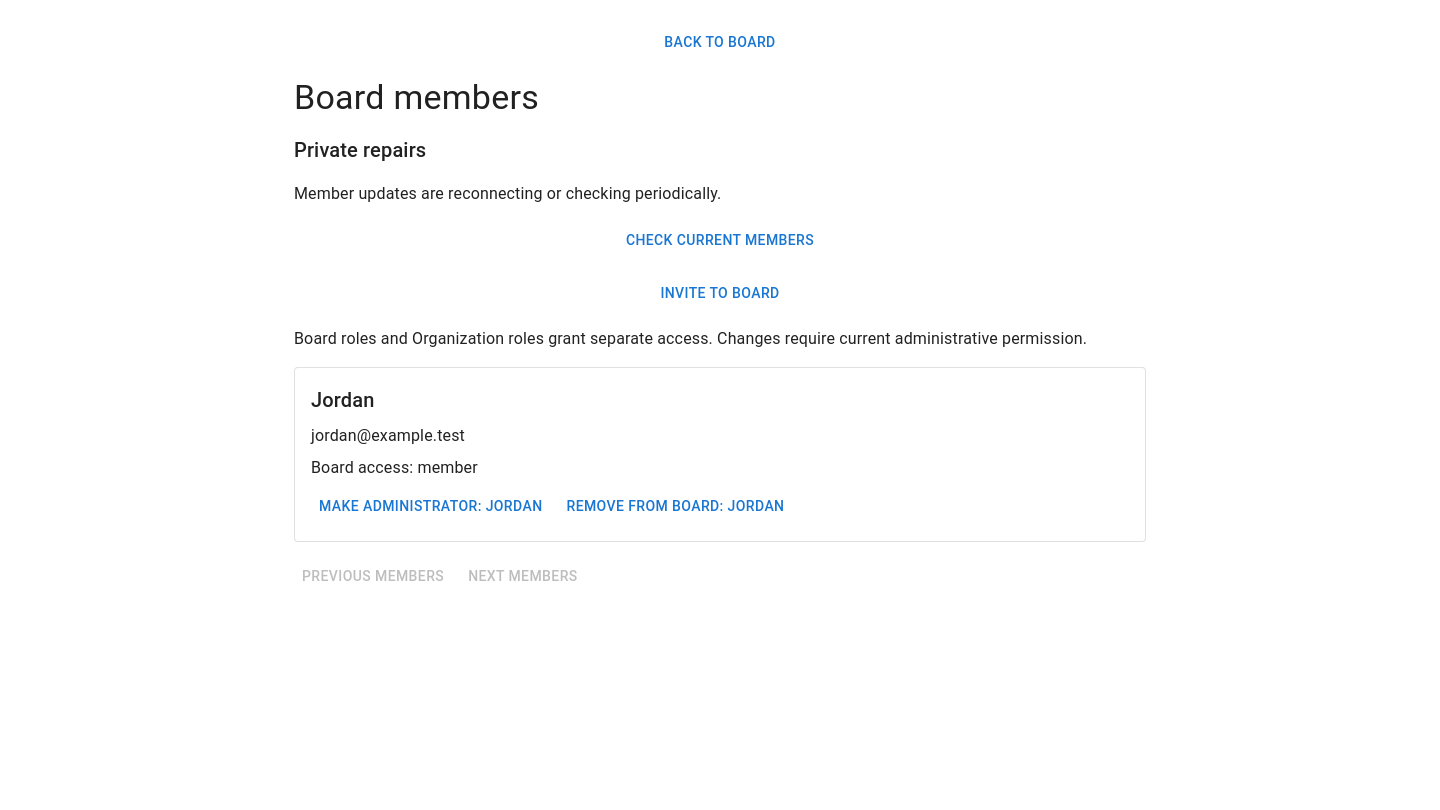
Test case: requires consent and sends the reviewed member version before confirming a bound role change
Click the button "Make administrator: Jordan" at [431, 507], box [311, 488, 550, 525]
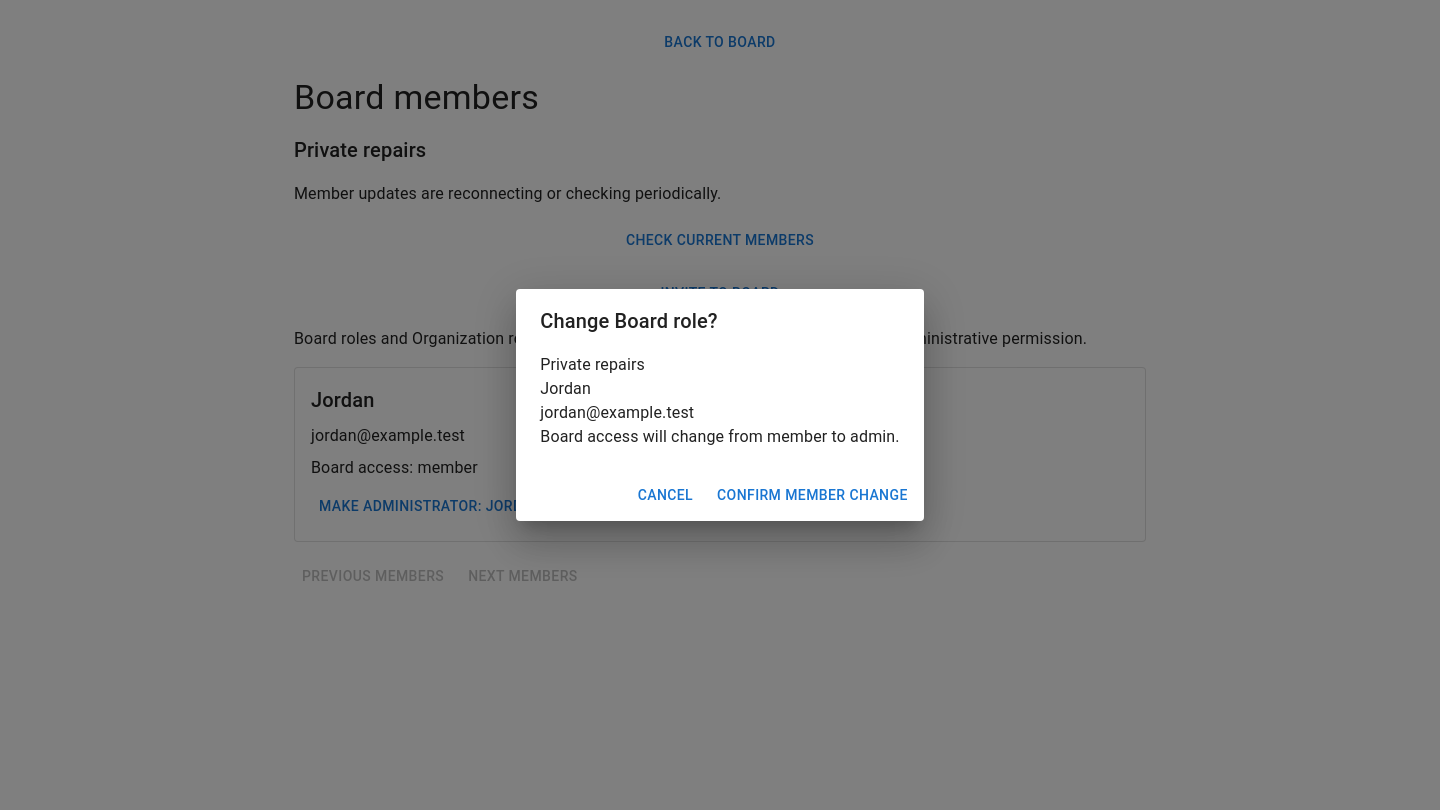
Click the button "Confirm member change" at [812, 495], box [709, 477, 916, 513]
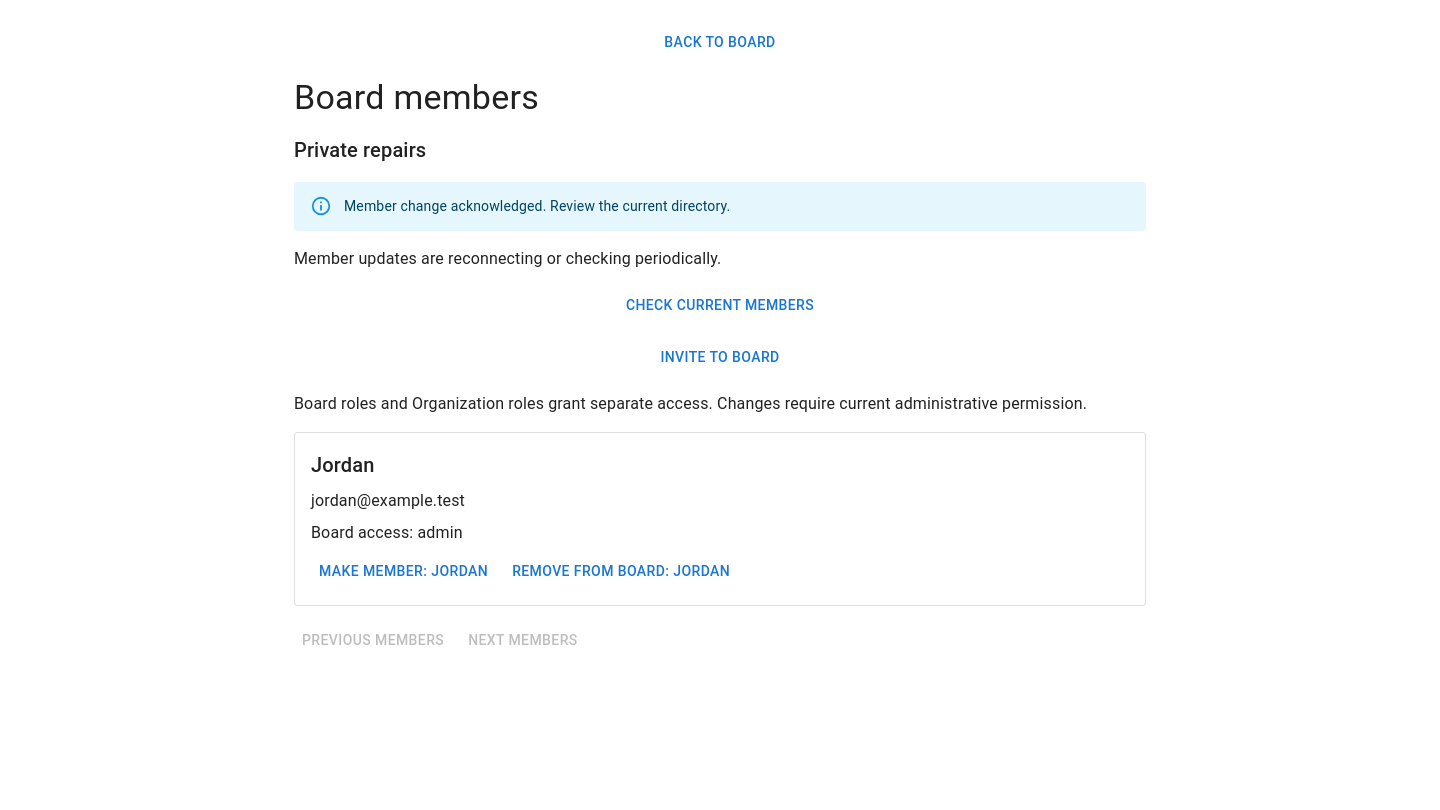
Expected: the text "Board access: admin" is shown, [311, 522, 463, 542]
